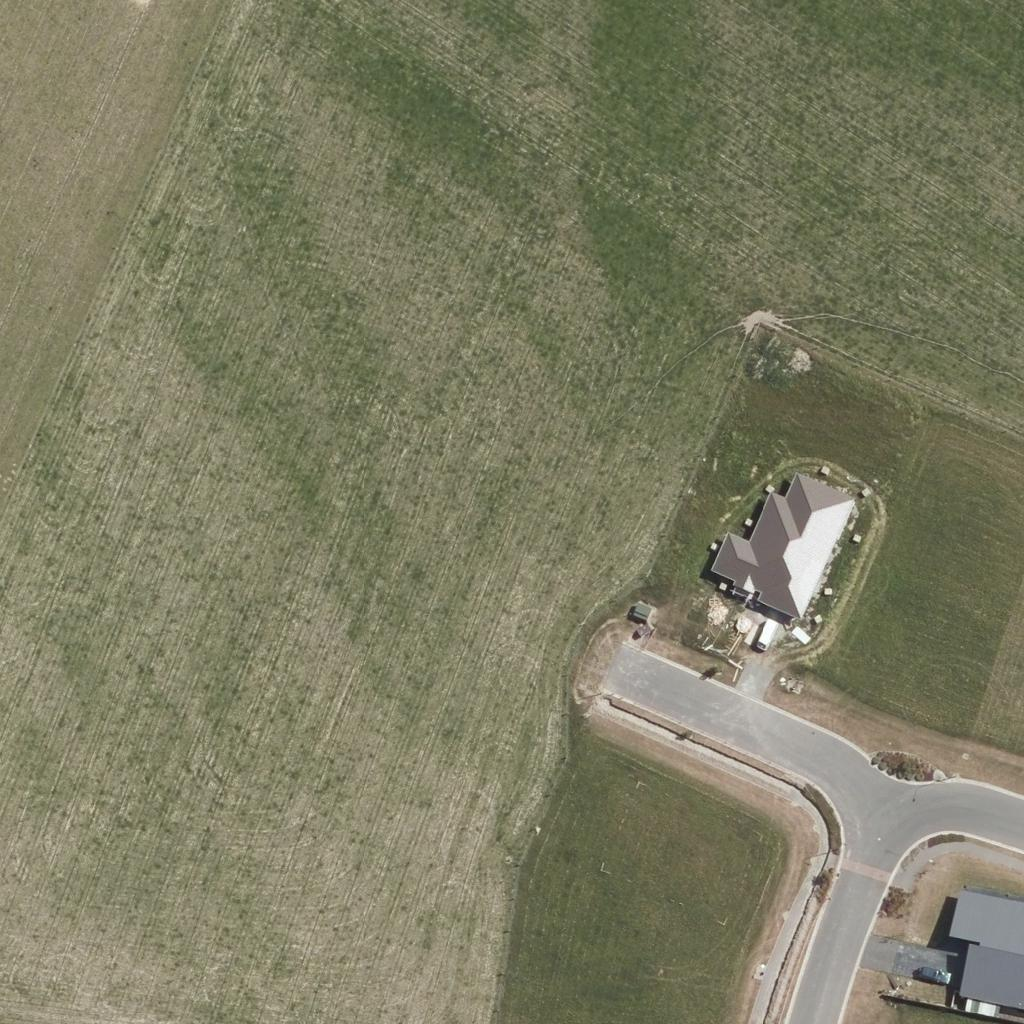car: (747, 617, 781, 651), (913, 955, 947, 989)
